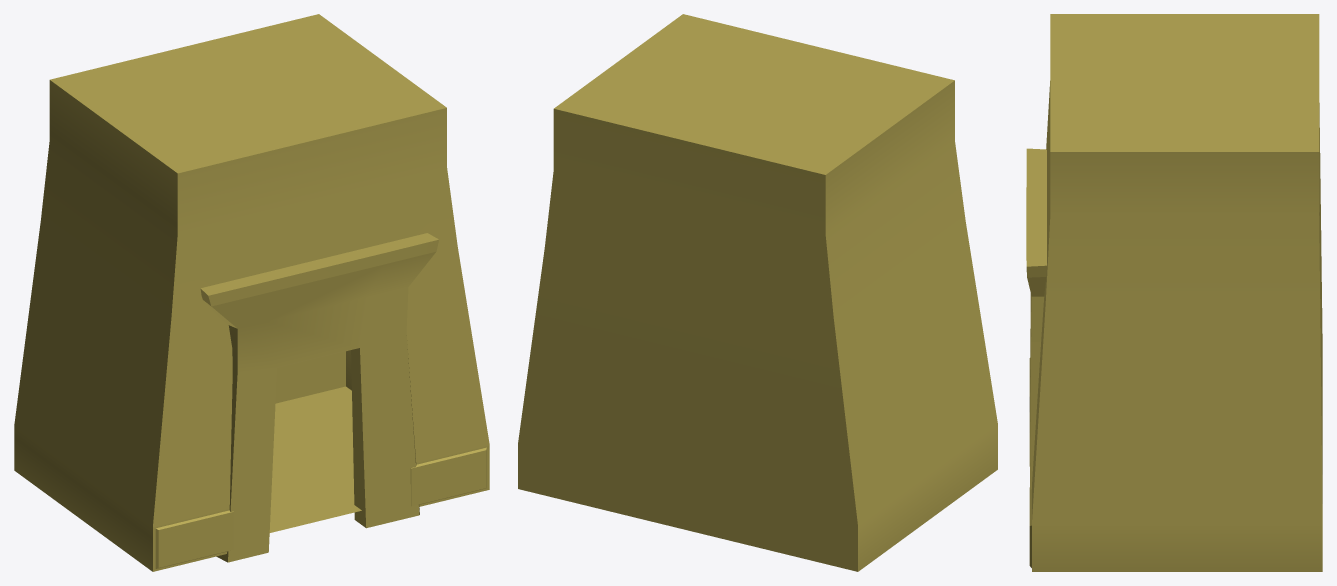
Rendered from Central_Temple_Low.fbx.
3 renders of one model, left to right at view 1: azimuth 30°, elevation 25°; view 2: azimuth 150°, elevation 25°; view 3: azimuth 270°, elevation 25°, orthographic. The views are drawn at different scales.
Visible parts, largest first — view 1: Central_Temple; view 2: Central_Temple; view 3: Central_Temple.
Part boxes in pixels (bbox=[...]): Central_Temple: bbox=[14, 14, 489, 571]; Central_Temple: bbox=[518, 14, 997, 571]; Central_Temple: bbox=[1026, 14, 1322, 571].
Size of the model in its own units: 1867 by 2074 by 1356.
